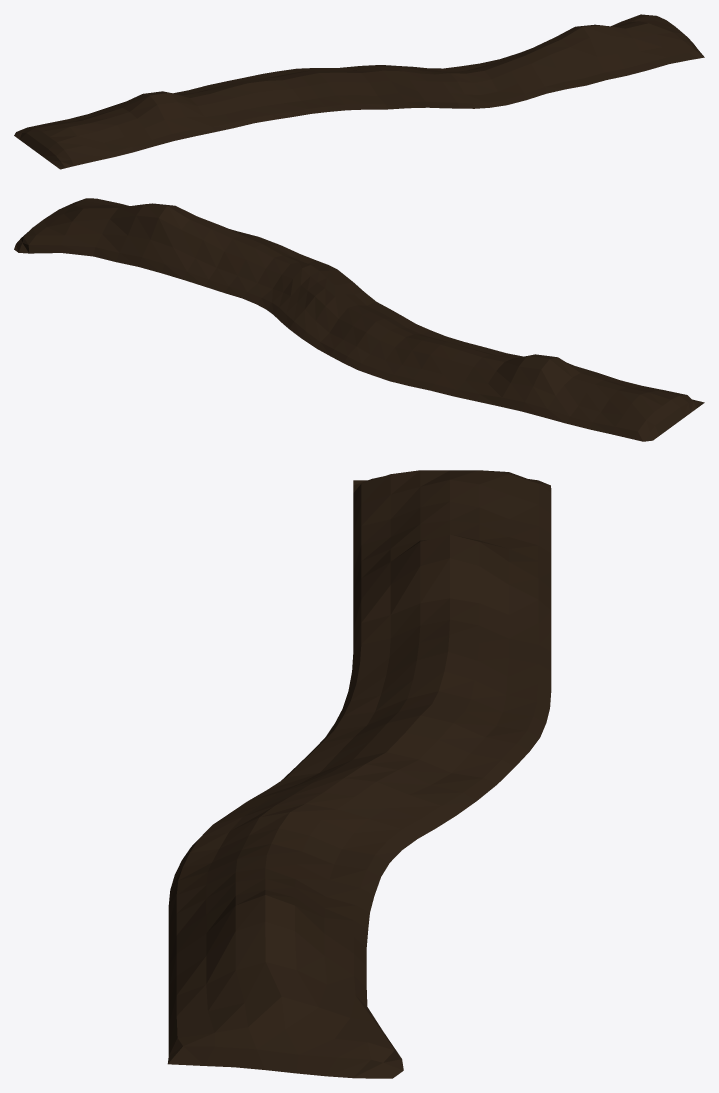
Rendered from Island_D01_Long03_Model.fbx.
The picture shows the model from 3 angles, top to bottom: view 1: azimuth 30°, elevation 25°; view 2: azimuth 150°, elevation 25°; view 3: azimuth 270°, elevation 25°; orthographic projection. The views are drawn at different scales.
Visible parts, largest first — view 1: Island_D_Long03; view 2: Island_D_Long03; view 3: Island_D_Long03.
Boxes of the visible parts, x1,y1,x2,y2 form: Island_D_Long03: [14, 14, 704, 169]; Island_D_Long03: [14, 198, 704, 441]; Island_D_Long03: [167, 470, 551, 1078].
Bounding box in the file's own units: 246 × 15.82 × 67.14.
